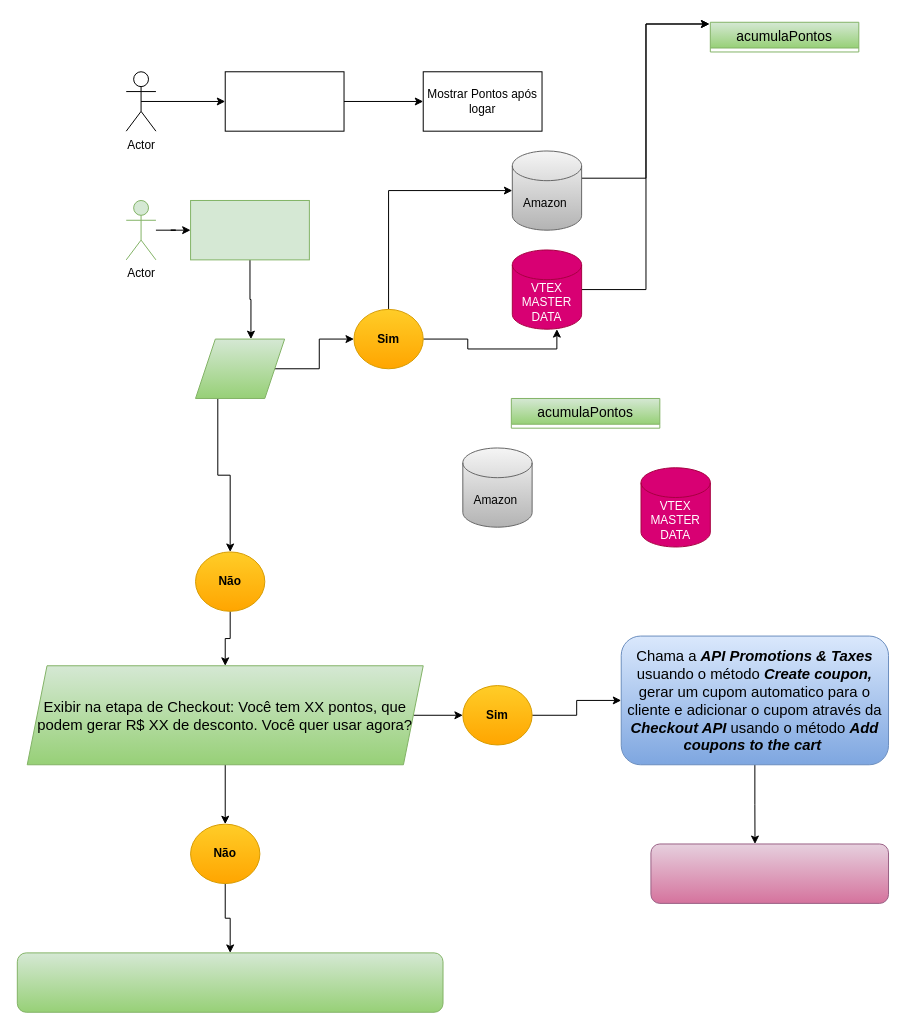
Some shapes in this 906 by 1031 pixel diagram are drawn without their labels. Here are the shapes that lost their labels. From the top down, the centre of each, then its label:
At (x=284, y=101): "Cliente Efetua Login".
At (x=249, y=229): "Cliente Efetua a compra".
At (x=240, y=368): "Primeira Compra?".
At (x=769, y=873): "Adicionar o resto da compra em pontos para a conta do cliente.".
At (x=229, y=982): "Pega o valor da Compra e adiciona o valor do pedido como pontos.".
